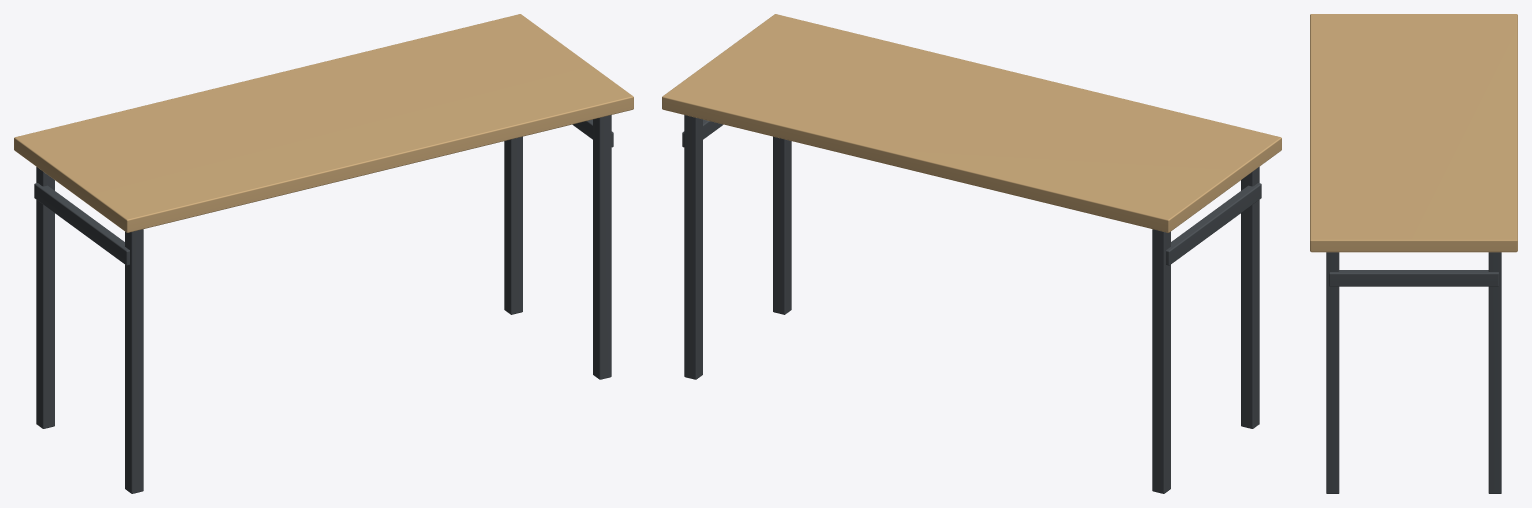
Rendered from return_table.glb.
The picture shows the model from 3 angles, left to right: view 1: azimuth 30°, elevation 25°; view 2: azimuth 150°, elevation 25°; view 3: azimuth 270°, elevation 25°; orthographic projection. The views are drawn at different scales.
Visible parts, largest first — view 1: return_table__top, return_table, return_table__leg1_-1, return_table__leg-1_-1, return_table__frame-1; view 2: return_table__top, return_table, return_table__leg-1_-1, return_table__leg1_-1, return_table__frame-1; view 3: return_table__top, return_table, return_table__leg1_-1, return_table__frame1.
Boxes of the visible parts, x1,y1,x2,y2 form: return_table__top: (14, 14, 633, 232); return_table: (36, 136, 522, 428); return_table__leg1_-1: (593, 115, 611, 379); return_table__leg-1_-1: (125, 229, 143, 493); return_table__frame-1: (34, 183, 129, 265); return_table__top: (662, 14, 1281, 232); return_table: (684, 115, 1170, 493); return_table__leg-1_-1: (1241, 167, 1259, 428); return_table__leg1_-1: (773, 136, 791, 314); return_table__frame-1: (1166, 183, 1261, 265); return_table__top: (1310, 14, 1517, 252); return_table: (1488, 252, 1501, 493); return_table__leg1_-1: (1326, 252, 1339, 493); return_table__frame1: (1329, 270, 1498, 286).
Bounding box in the file's own units: 1.42 × 0.76 × 0.55.
